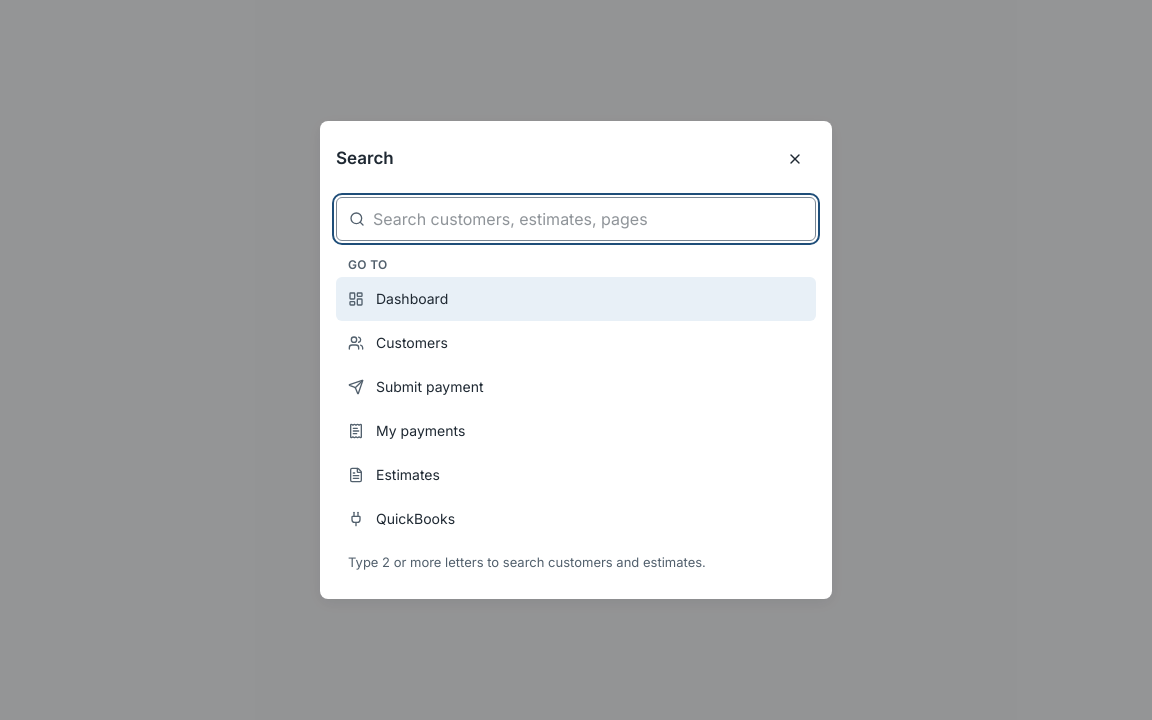
Scenario: Command palette › finds customers and estimates in QuickBooks and opens the chosen one from the keyboard
Step 1. Type "acme" into the dropdown → [588, 219], box [373,199,803,239]
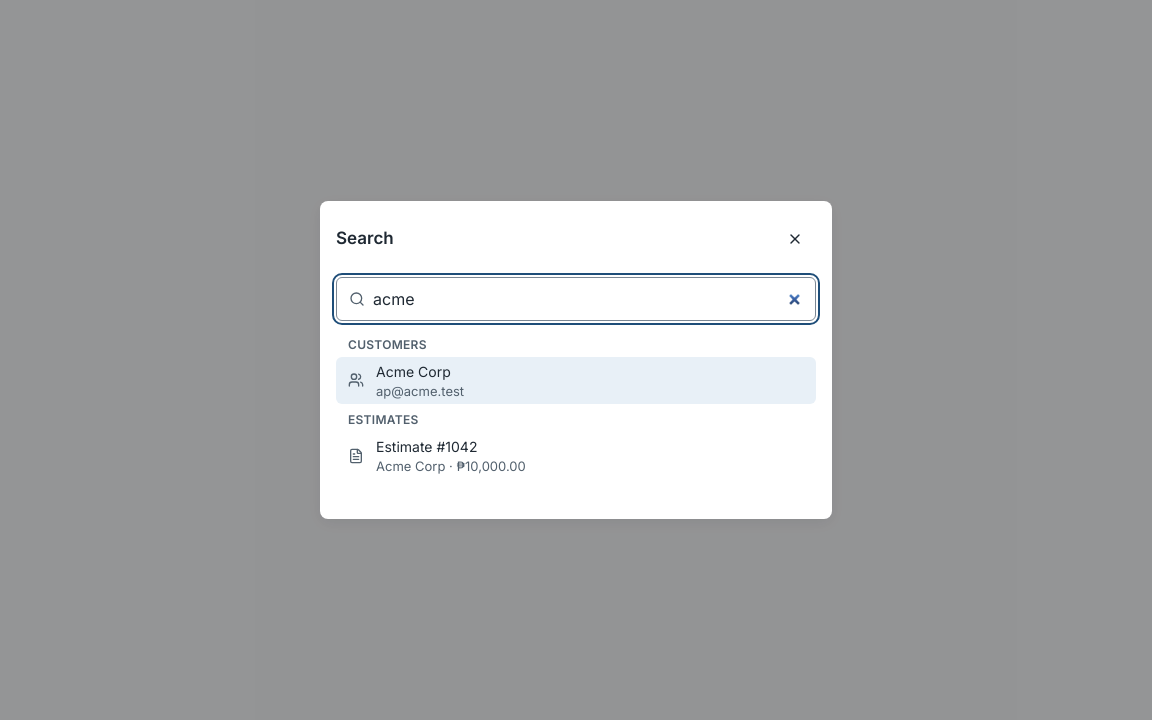
Check: the option "Acme Corp ap@acme.test" is shown, box [336,357,816,404]
Check: the option "Estimate #1042 Acme Corp · ₱10,000.00" is shown, box [348,438,526,474]
Pages that do not match are gone, so the first result is the customer.
Step 2. Press Enter
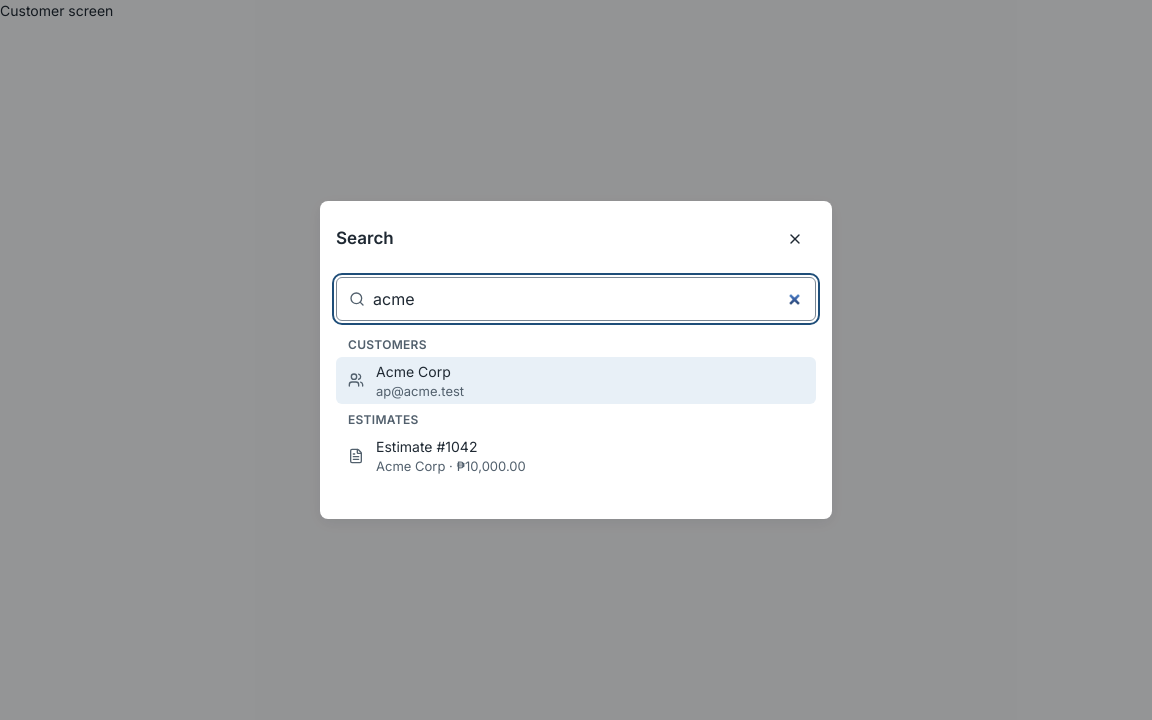
Check: the text "Customer screen" is shown, box [0,2,113,19]
